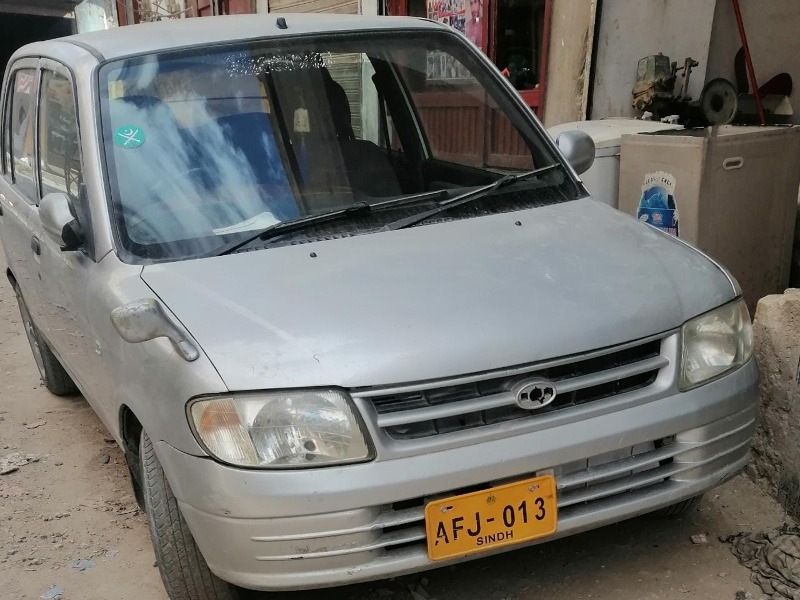License Plate: (424, 474, 560, 563)
